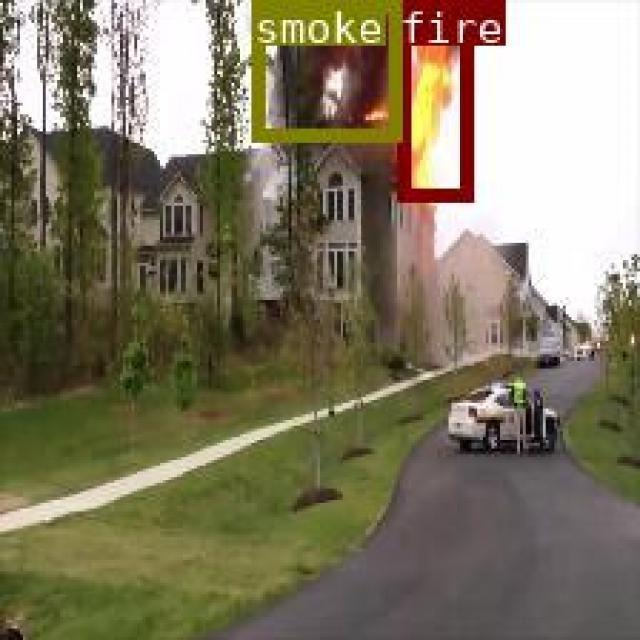fire: (395, 0, 472, 200)
smoke: (251, 0, 400, 140)
